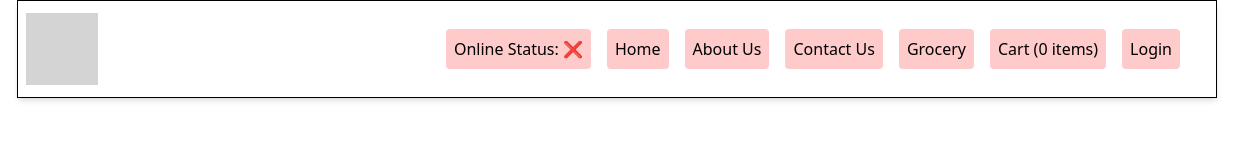
Test: Should fully cover the handleToggle function
The image size is (1235, 160).
Expected: the list item "Online Status: ❌" is shown, [446, 29, 591, 69]
Simulate a click to toggle to "LogOut"
Click the button "Login".
click(1151, 49)  # box [1122, 29, 1180, 69]
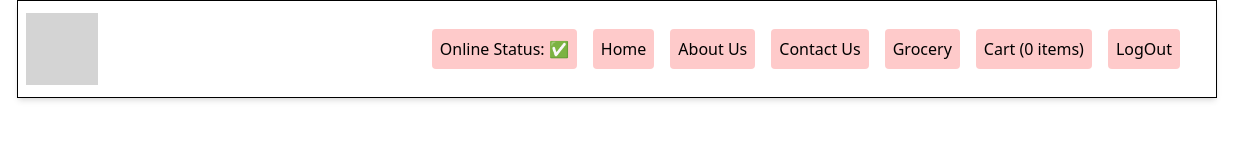
Result: the button named "Login" reads "LogOut"
Result: the list item "Online Status: ✅" is shown at [432, 29, 577, 69]
Simulate another click to toggle back to "Login"
Click the button named "Login".
click(1144, 49)  # box [1108, 29, 1180, 69]
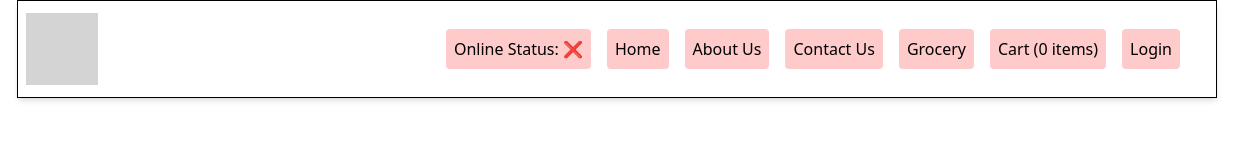
Result: the button "Login" is shown at [1122, 29, 1180, 69]
Result: the list item "Online Status: ❌" is shown at [446, 29, 591, 69]
